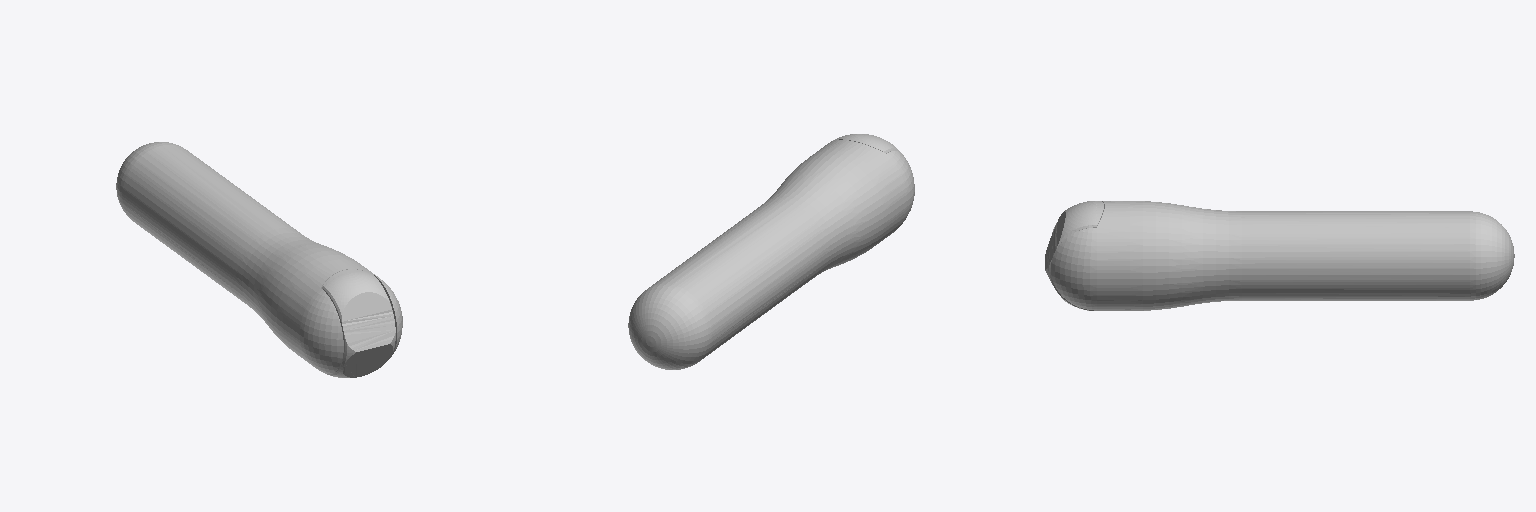
3 views of the same model, side by side, from view 1: azimuth 30°, elevation 25°; view 2: azimuth 150°, elevation 25°; view 3: azimuth 270°, elevation 25° (orthographic).
Visible parts, largest first — view 1: tv; view 2: tv; view 3: tv.
Boxes of the visible parts, x1=… form: tv: x1=116, y1=142, x2=402, y2=377; tv: x1=628, y1=134, x2=914, y2=369; tv: x1=1045, y1=201, x2=1514, y2=310.
Bounding box in the file's own units: 0.3705 × 0.3705 × 1.57.